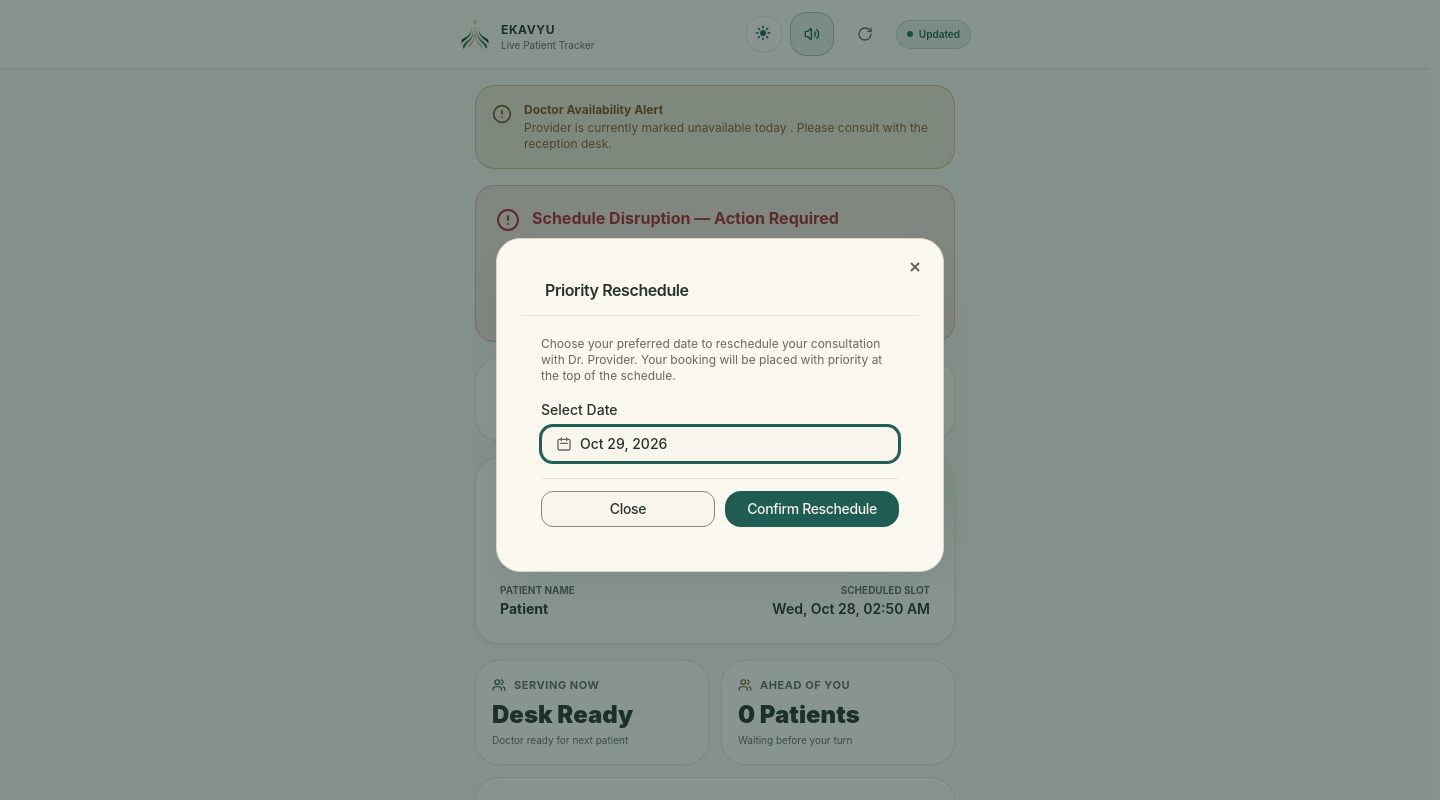
it: reports payment pending after a disruption reschedule
The image size is (1440, 800).
Step 1. Click the button "Confirm Reschedule" → (812, 509), box [725,491,899,527]
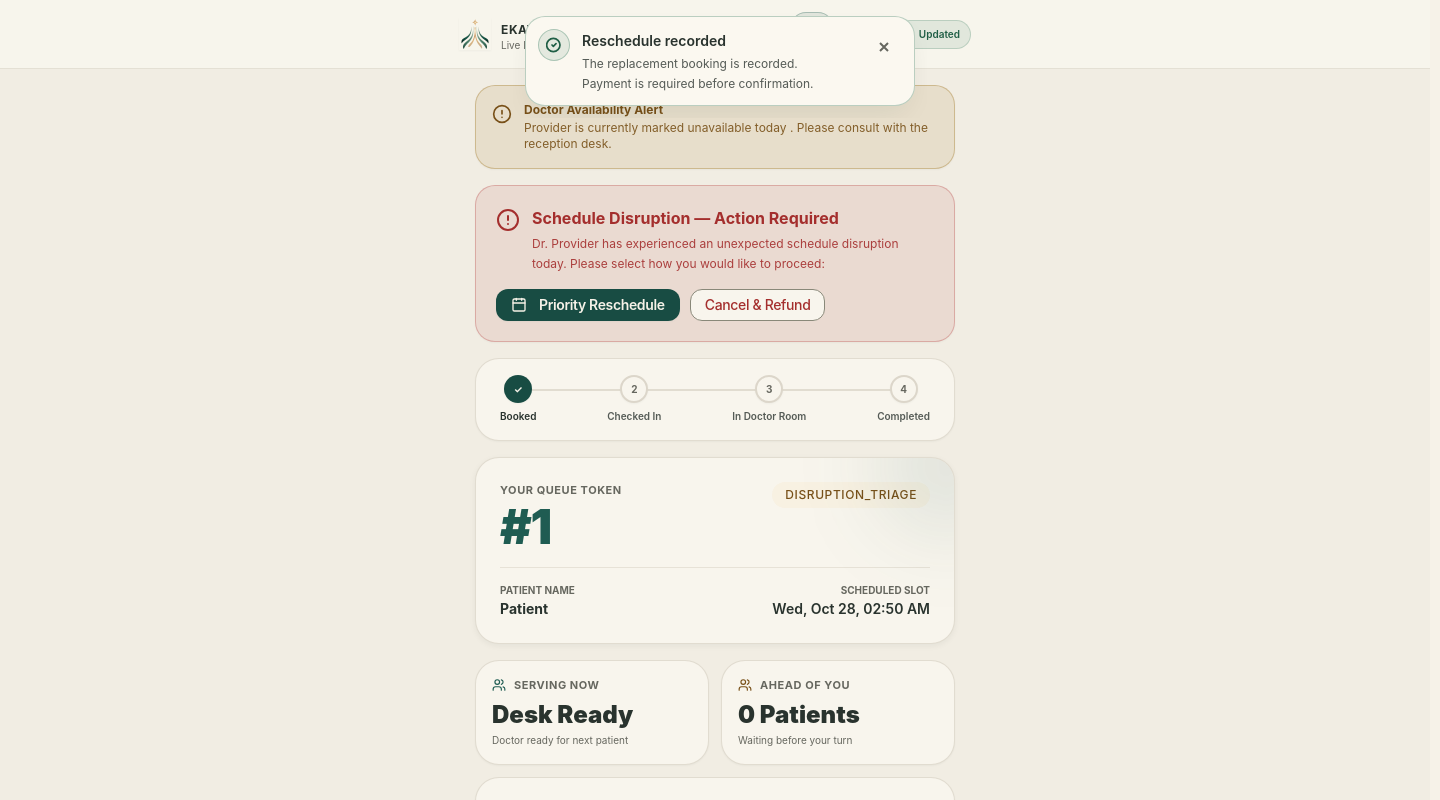
Expected: the text "The replacement booking is recorded. Payment is required before confirmation." is shown, [582,54,850,93]
